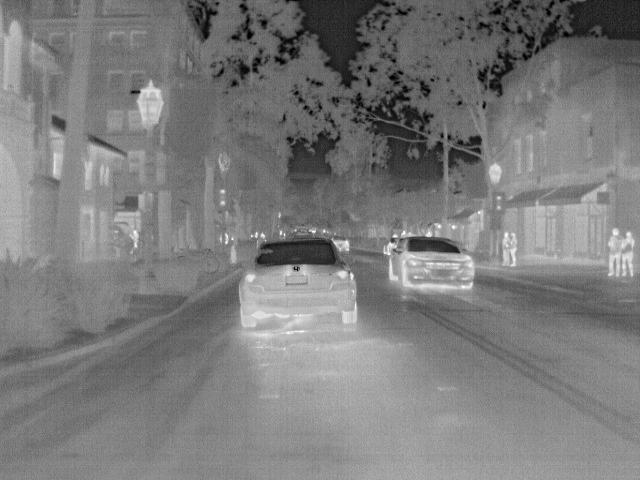car: (242, 236, 356, 327), (387, 236, 477, 294), (329, 234, 350, 252), (381, 237, 400, 255)
person: (606, 226, 624, 276), (622, 230, 637, 276), (499, 230, 513, 266), (506, 230, 518, 267), (128, 228, 142, 252)
